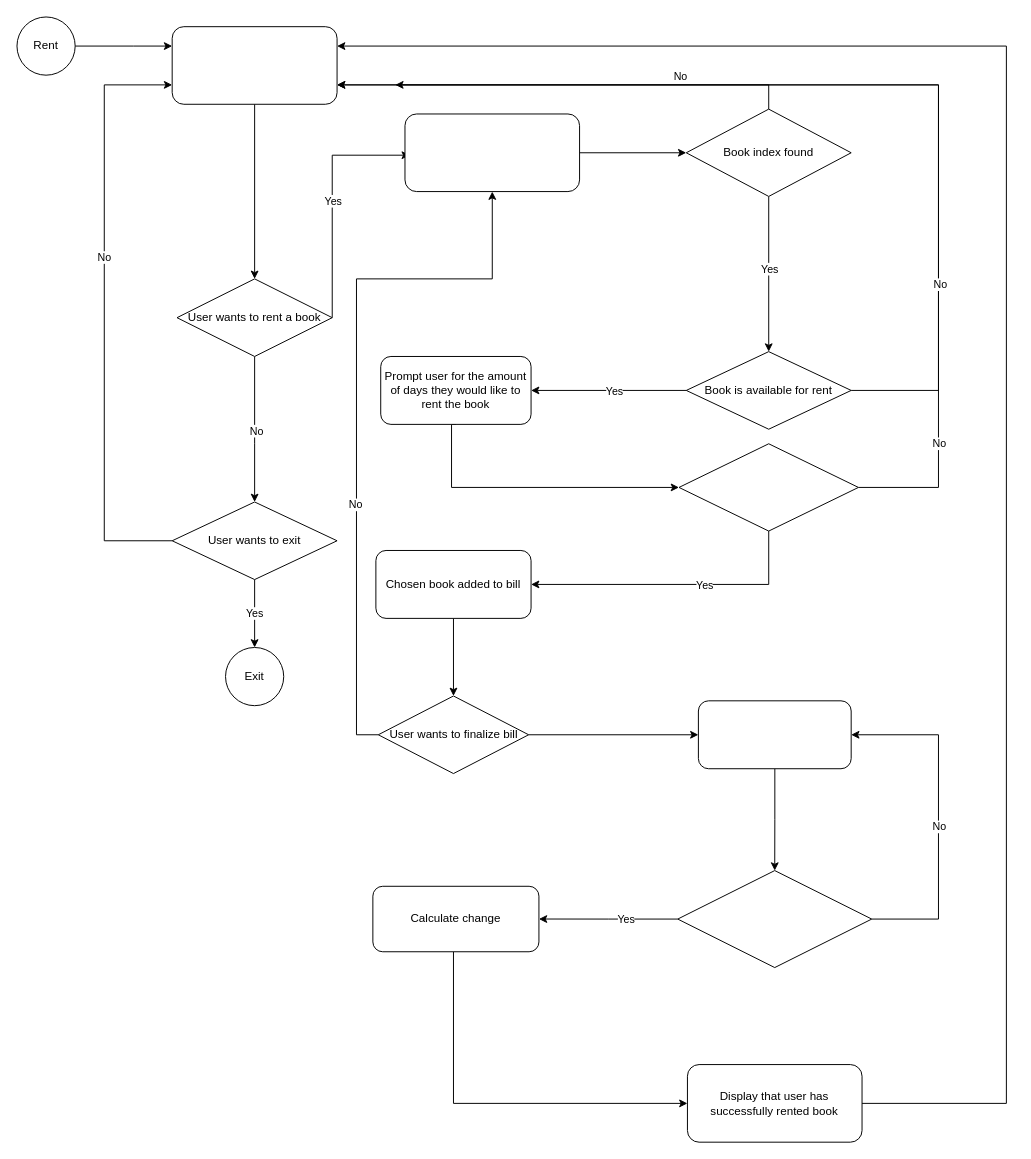
Image size: 1031x1159. Some labels were removed from this diagram. The centre of each missing label's shape, as x and y in pixels:
"Chosen rent period lower than or equal to maximum rent period" goes at (x=768, y=487).
"Display final bill and prompt user for payment" goes at (x=774, y=734).
"Display rent menu options" goes at (x=254, y=65).
"Prompt user for book index that they want to rent" goes at (x=492, y=152).
"User payment greater than or equal to bill amount" goes at (x=774, y=919).
